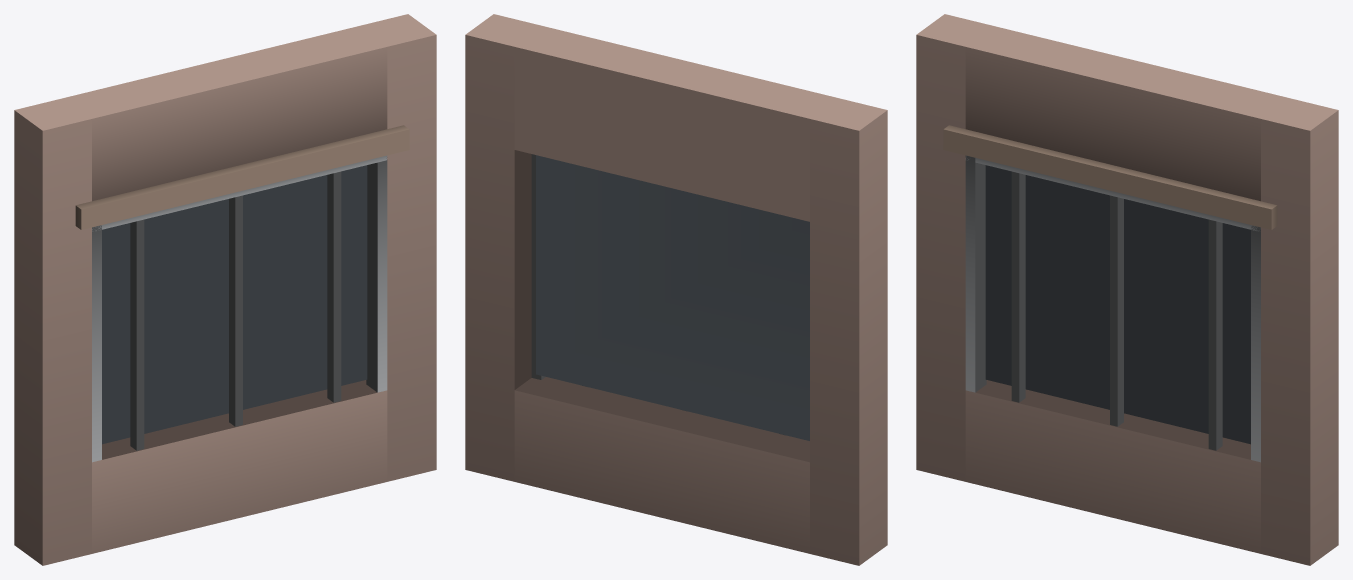
Rendered from bay_warehouse.lod2.glb.
The picture shows the model from 3 angles, left to right: view 1: azimuth 30°, elevation 25°; view 2: azimuth 150°, elevation 25°; view 3: azimuth 330°, elevation 25°; orthographic projection.
Parts seen in each view (by area): view 1: facade_bay_warehouse.lod2; view 2: facade_bay_warehouse.lod2; view 3: facade_bay_warehouse.lod2.
Boxes of the visible parts, x1=… form: facade_bay_warehouse.lod2: x1=14, y1=14, x2=436, y2=565; facade_bay_warehouse.lod2: x1=465, y1=14, x2=887, y2=565; facade_bay_warehouse.lod2: x1=916, y1=14, x2=1338, y2=565.
Bounding box in the file's own units: 3.6 × 3.8 × 0.54.
